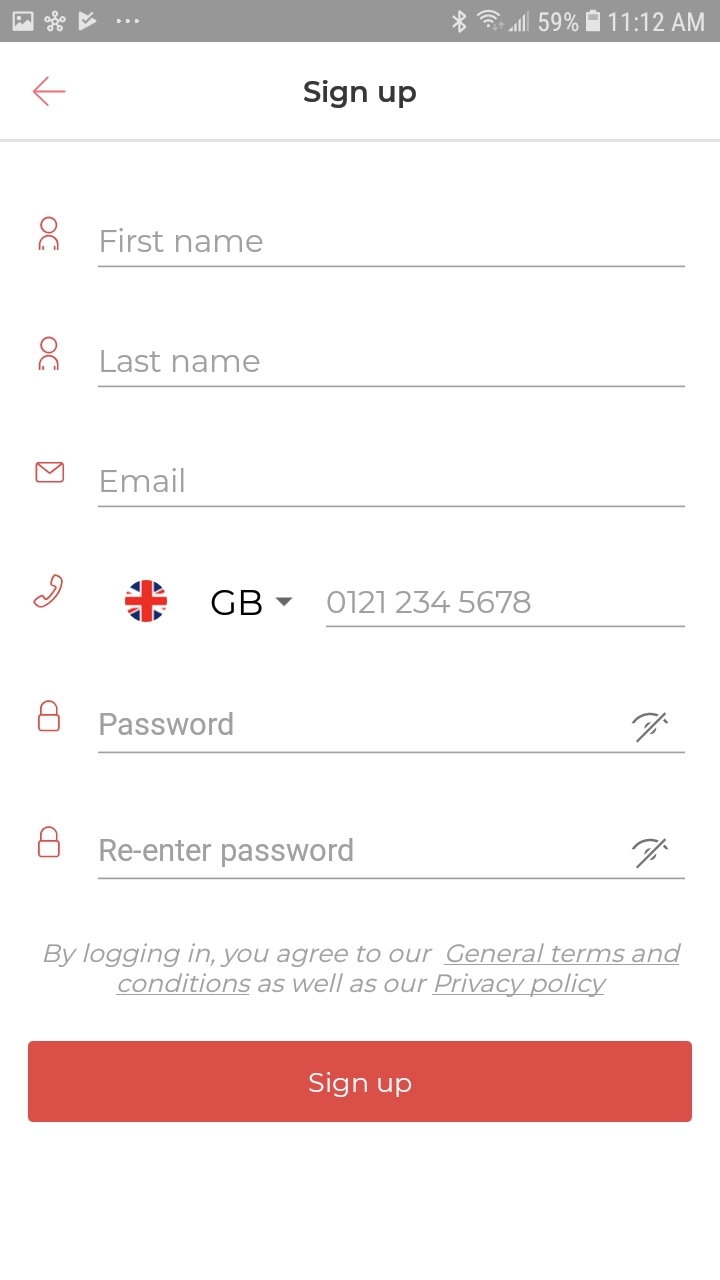EditText: (98, 838, 685, 880), (98, 712, 685, 754), (98, 468, 685, 509), (98, 228, 685, 269), (98, 350, 686, 389), (326, 590, 686, 629)
Icon: (632, 712, 668, 743), (632, 838, 668, 869), (33, 77, 67, 108), (39, 826, 62, 859), (38, 700, 61, 732), (40, 336, 61, 371), (39, 217, 60, 251), (36, 462, 65, 484), (275, 596, 294, 607)
Image: (125, 580, 168, 623), (33, 574, 64, 609)
Text: (44, 942, 682, 998), (100, 838, 354, 868), (327, 591, 531, 615), (101, 228, 264, 254), (101, 351, 260, 374), (101, 712, 235, 737), (304, 81, 417, 110), (101, 468, 185, 494), (212, 589, 263, 616)
TextButton: (29, 1040, 693, 1122)
UpperTaskBar: (1, 1, 720, 43)
